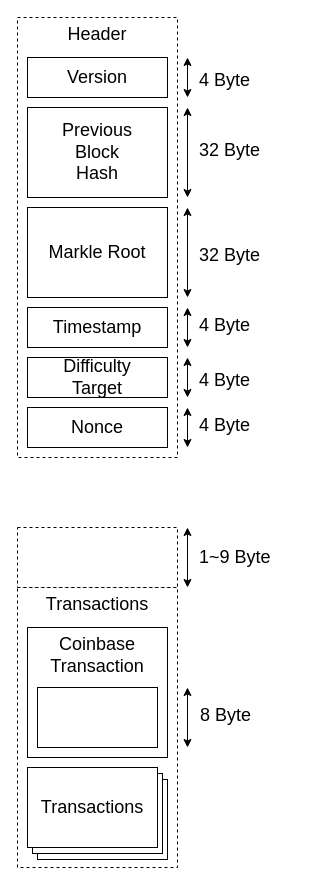
Some shapes in this 315 by 885 pixel diagram are drawn without their labels. The centre of each missing label's shape, as x and y in pixels:
ExtraNonce: the point at 97,717
Transactions Counter: the point at 97,557
